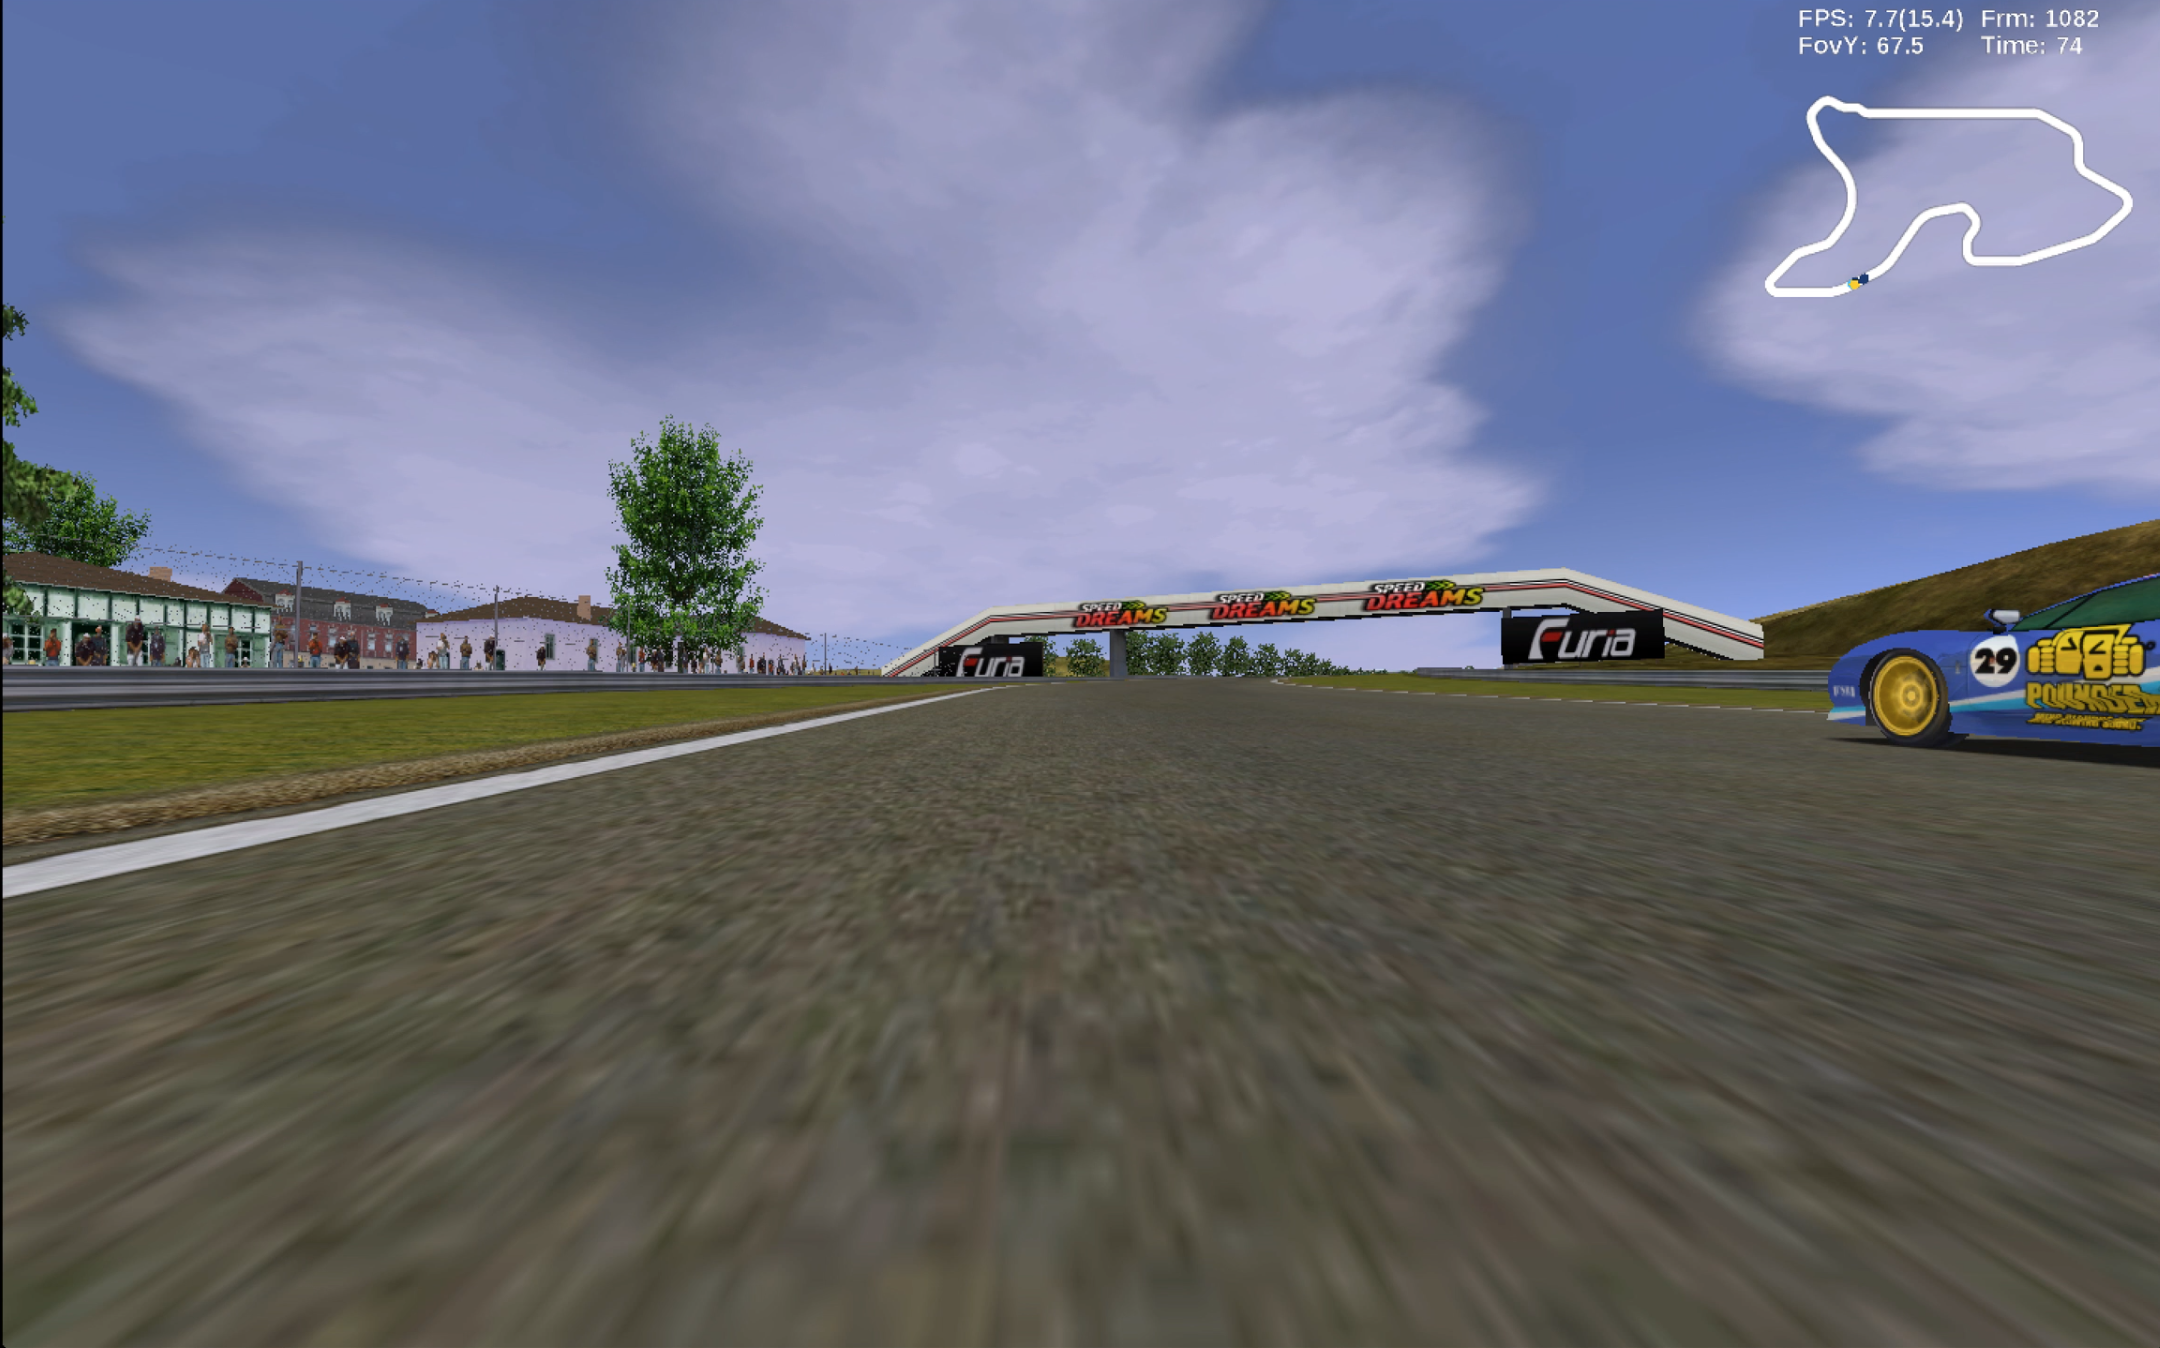Lynx220: (1829, 579, 2160, 749)
